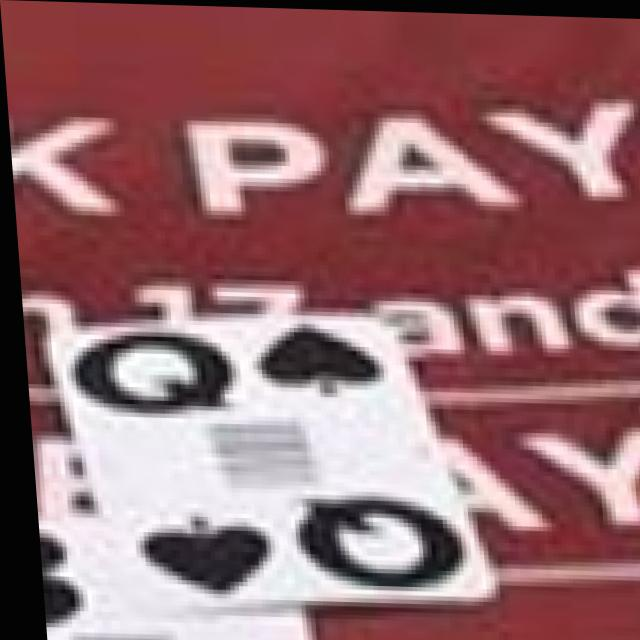Card-Q: (39, 306, 486, 612)
